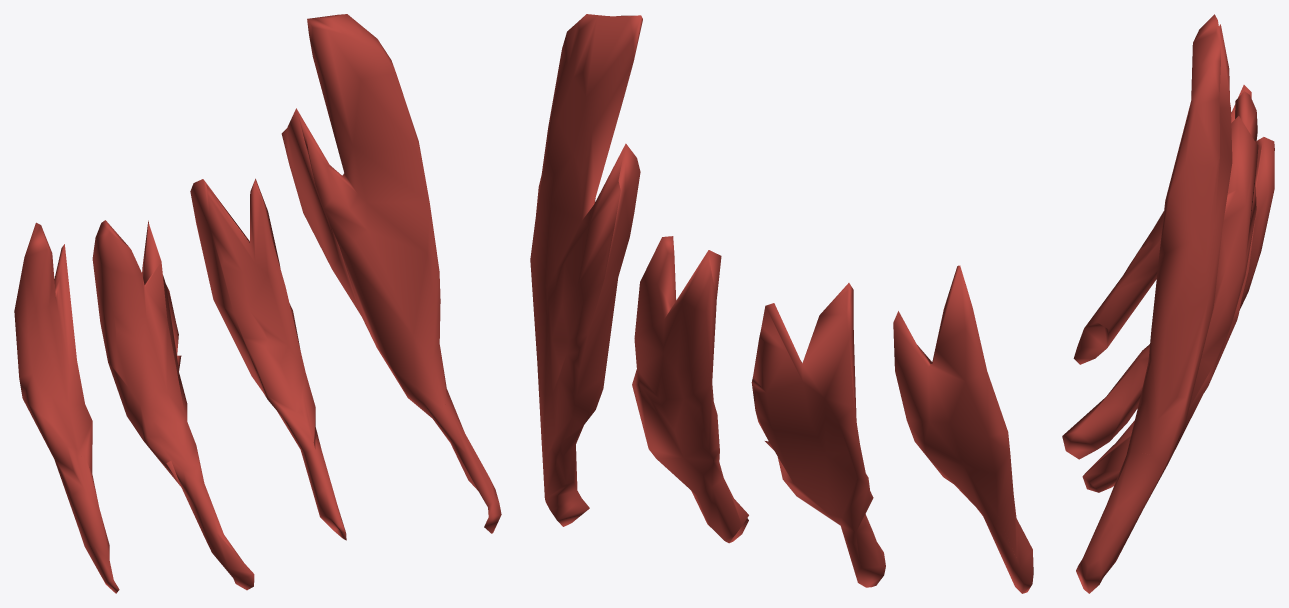
Rendered from musculos-dorsal-interossei-muscles-of-hand-l.glb.
3 views of the same model, side by side, from view 1: azimuth 30°, elevation 25°; view 2: azimuth 150°, elevation 25°; view 3: azimuth 270°, elevation 25° (orthographic). The views are drawn at different scales.
Visible parts, largest first — view 1: Dorsal interossei muscles of hand.l; view 2: Dorsal interossei muscles of hand.l; view 3: Dorsal interossei muscles of hand.l.
Boxes of the visible parts, bbox=[...] form: Dorsal interossei muscles of hand.l: bbox=[14, 14, 501, 593]; Dorsal interossei muscles of hand.l: bbox=[530, 14, 1033, 593]; Dorsal interossei muscles of hand.l: bbox=[1062, 14, 1274, 593].
Size of the model in its own units: 0.064 by 0.0711 by 0.0265.
